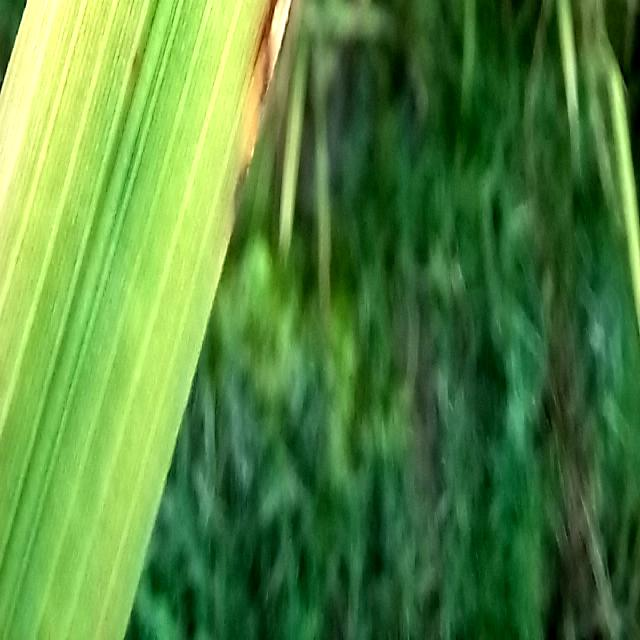LEAF BLAST: (252, 0, 291, 107)
